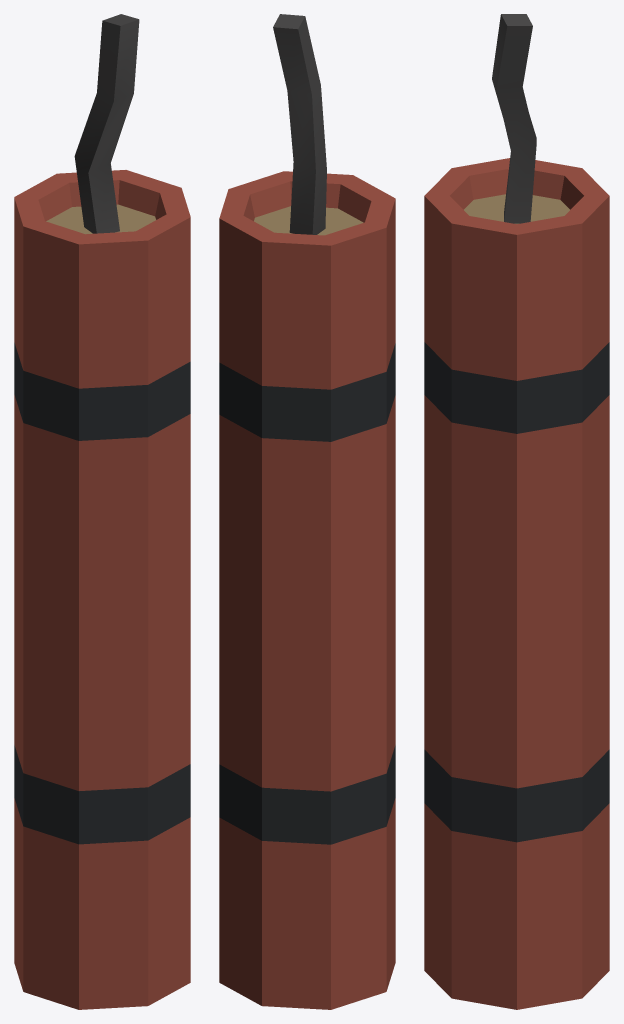
The model's file is SM_Prop_Dynamite_01.fbx.
The picture shows the model from 3 angles, left to right: view 1: azimuth 30°, elevation 25°; view 2: azimuth 150°, elevation 25°; view 3: azimuth 270°, elevation 25°; orthographic projection.
Parts seen in each view (by area): view 1: SM_Prop_Dynamite_01; view 2: SM_Prop_Dynamite_01; view 3: SM_Prop_Dynamite_01.
Part boxes in pixels (box(x1,y1,x2,y2)): SM_Prop_Dynamite_01: box(14, 14, 190, 1009); SM_Prop_Dynamite_01: box(219, 14, 395, 1009); SM_Prop_Dynamite_01: box(424, 14, 609, 1009).
Size of the model in its own units: 7.1 by 40.73 by 7.1.
